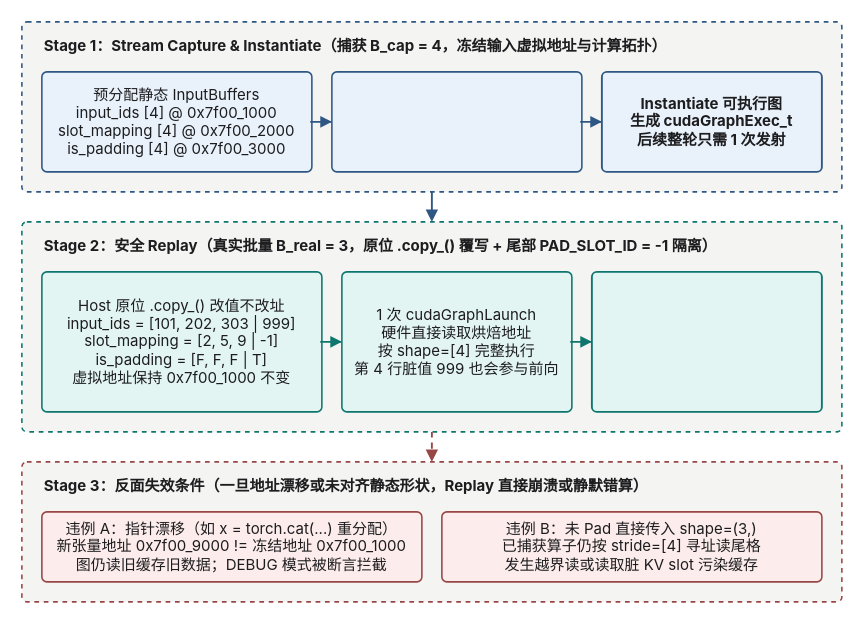
This 865x625 diagram has some shape labels left out. The centre of each missing label's shape, as x and y in pixels:
"Stream Capture 录制 只记录 GPU 算子序列 地址 0x7f..1000~3000 烘焙进图" goes at (x=456, y=121).
"写回屏蔽：脏尾部零副作用 Attn 见 slot=-1 跳过写 KV MoE 见 is_padding=T 置 -1/0 只返回有效切片 [:3]" goes at (x=706, y=341).
